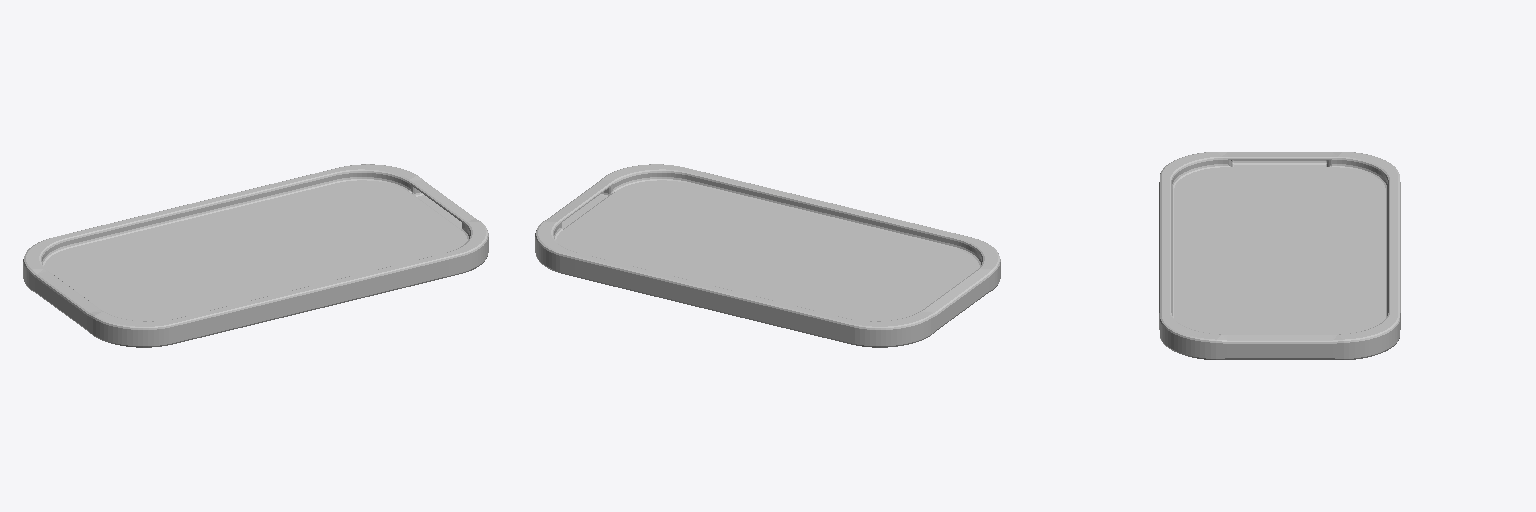
File: table.obj
3 views of the same model, side by side, from view 1: azimuth 30°, elevation 25°; view 2: azimuth 150°, elevation 25°; view 3: azimuth 270°, elevation 25° (orthographic).
Visible parts, largest first — view 1: Table; view 2: Table; view 3: Table.
Boxes of the visible parts, x1=… form: Table: x1=23, y1=164, x2=488, y2=347; Table: x1=535, y1=164, x2=1000, y2=347; Table: x1=1159, y1=152, x2=1400, y2=359.
Size of the model in its own units: 1.89 by 0.0965 by 1.01.